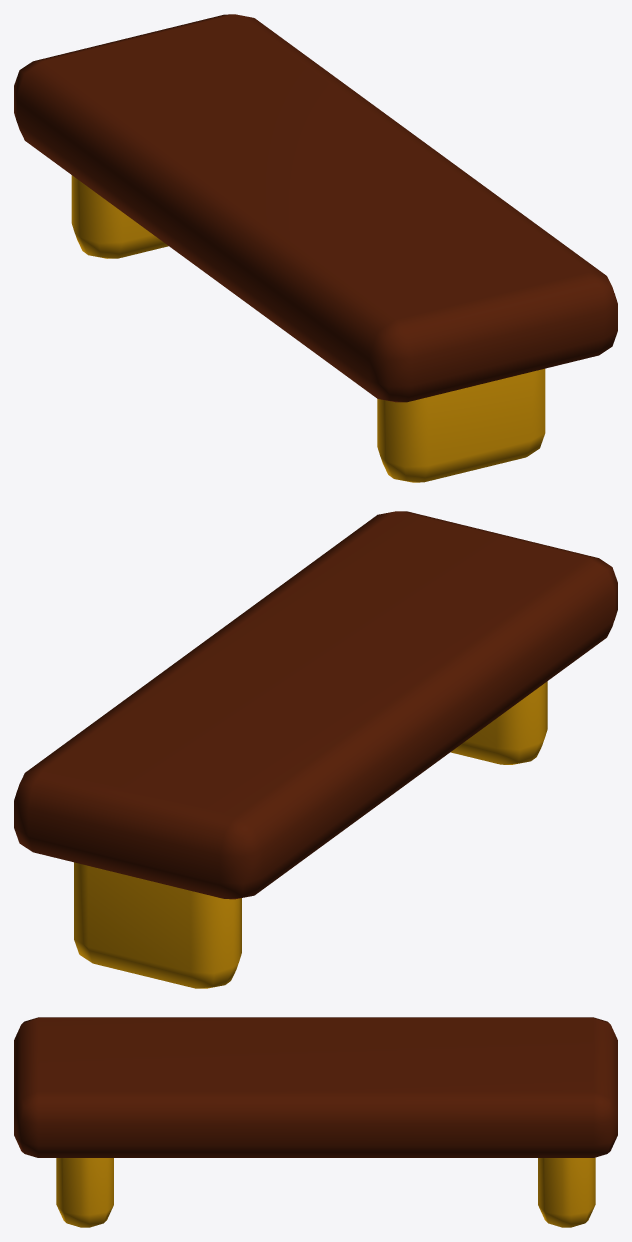
The model's file is Bench.fbx.
3 views of the same model, one above another, from view 1: azimuth 30°, elevation 25°; view 2: azimuth 150°, elevation 25°; view 3: azimuth 270°, elevation 25° (orthographic). The views are drawn at different scales.
Visible parts, largest first — view 1: Bench1; view 2: Bench1; view 3: Bench1.
Boxes of the visible parts, x1=… form: Bench1: x1=14, y1=14, x2=617, y2=482; Bench1: x1=14, y1=511, x2=617, y2=988; Bench1: x1=14, y1=1017, x2=617, y2=1227.
Bounding box in the file's own units: 0.5239 × 0.3955 × 1.42.
